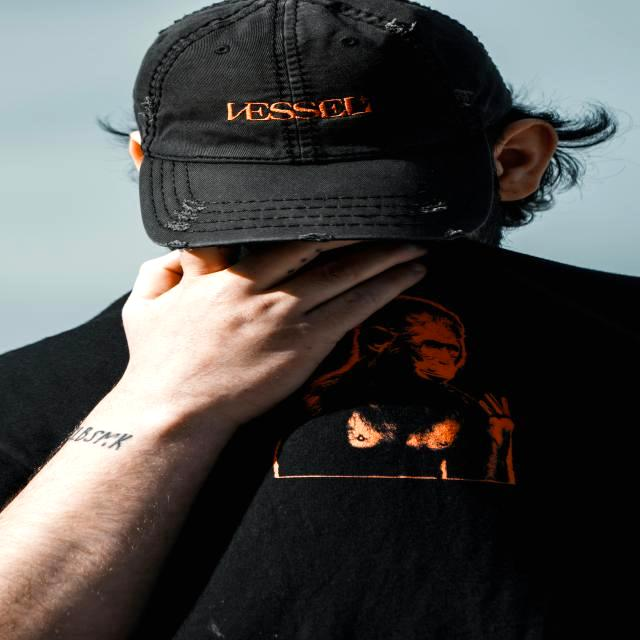no_hard_hat: (134, 0, 509, 248)
person: (131, 0, 638, 640), (2, 301, 130, 520)
